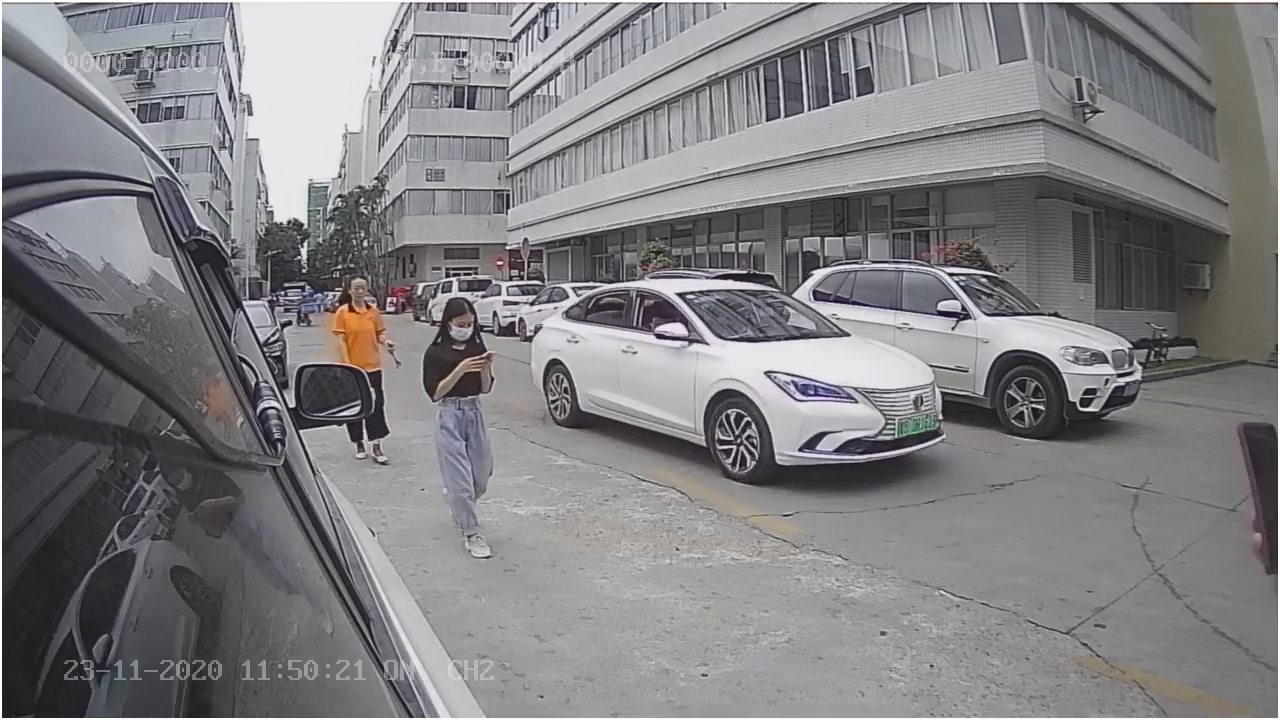person: (416, 295, 500, 562)
